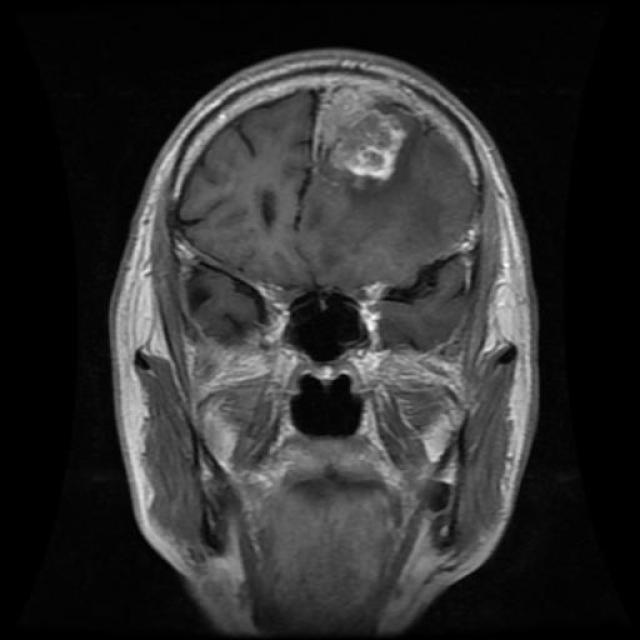meningioma: (324, 88, 406, 181)
